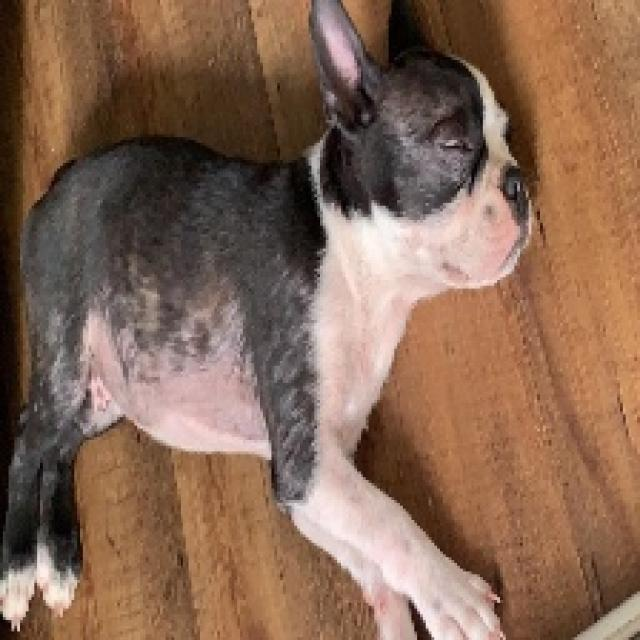cho khoe manh: (0, 24, 557, 621)
